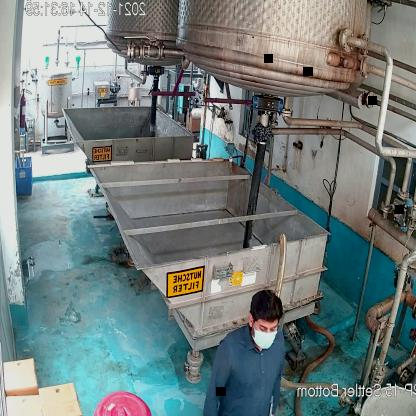no_goggles: (254, 318, 281, 335)
